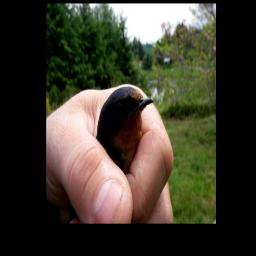Swallow: (95, 84, 156, 175)
